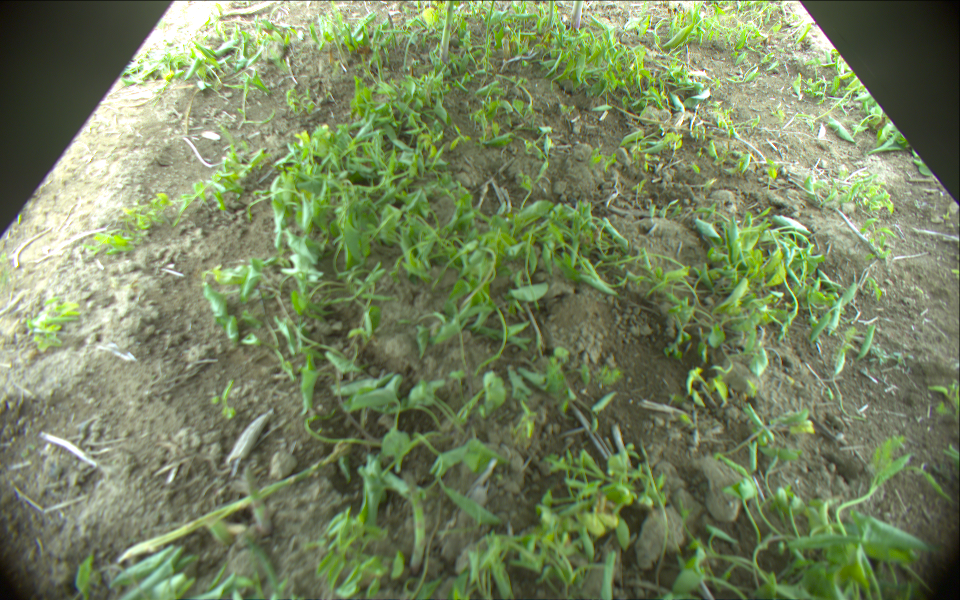aspa: (118, 443, 352, 564), (400, 469, 430, 577), (242, 466, 271, 535), (438, 1, 456, 59), (484, 1, 495, 63), (570, 1, 584, 30), (546, 1, 554, 30)
